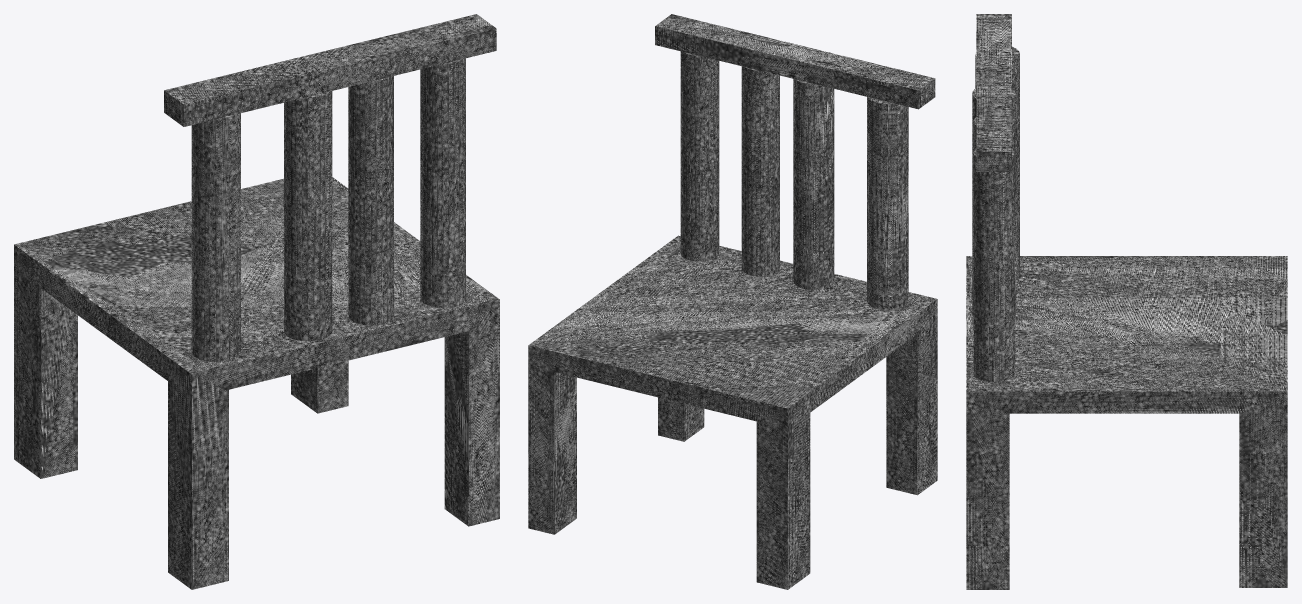
The picture shows the model from 3 angles, left to right: view 1: azimuth 30°, elevation 25°; view 2: azimuth 150°, elevation 25°; view 3: azimuth 270°, elevation 25°; orthographic projection. The views are drawn at different scales.
Visible parts, largest first — view 1: mesh1_mesh1-geometry; view 2: mesh1_mesh1-geometry; view 3: mesh1_mesh1-geometry.
Boxes of the visible parts, x1=… form: mesh1_mesh1-geometry: x1=14, y1=14, x2=499, y2=589; mesh1_mesh1-geometry: x1=528, y1=14, x2=937, y2=589; mesh1_mesh1-geometry: x1=966, y1=14, x2=1287, y2=589.
Size of the model in its own units: 0.4894 by 0.7268 by 0.4819.
